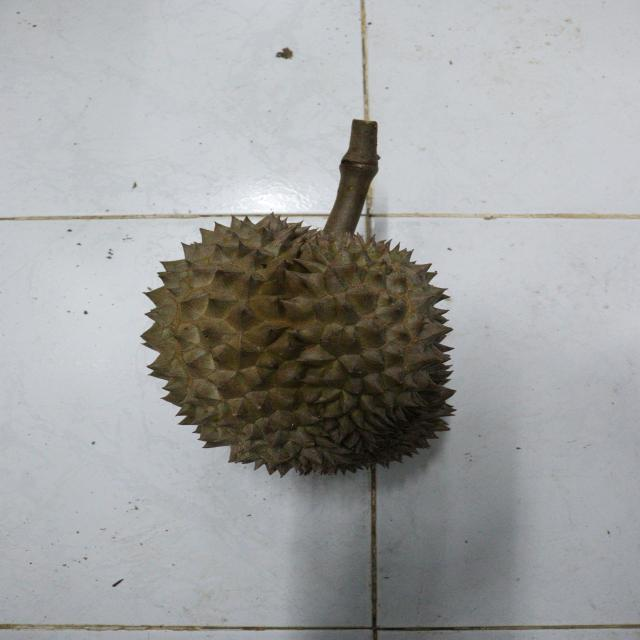mature: (133, 209, 463, 473)
